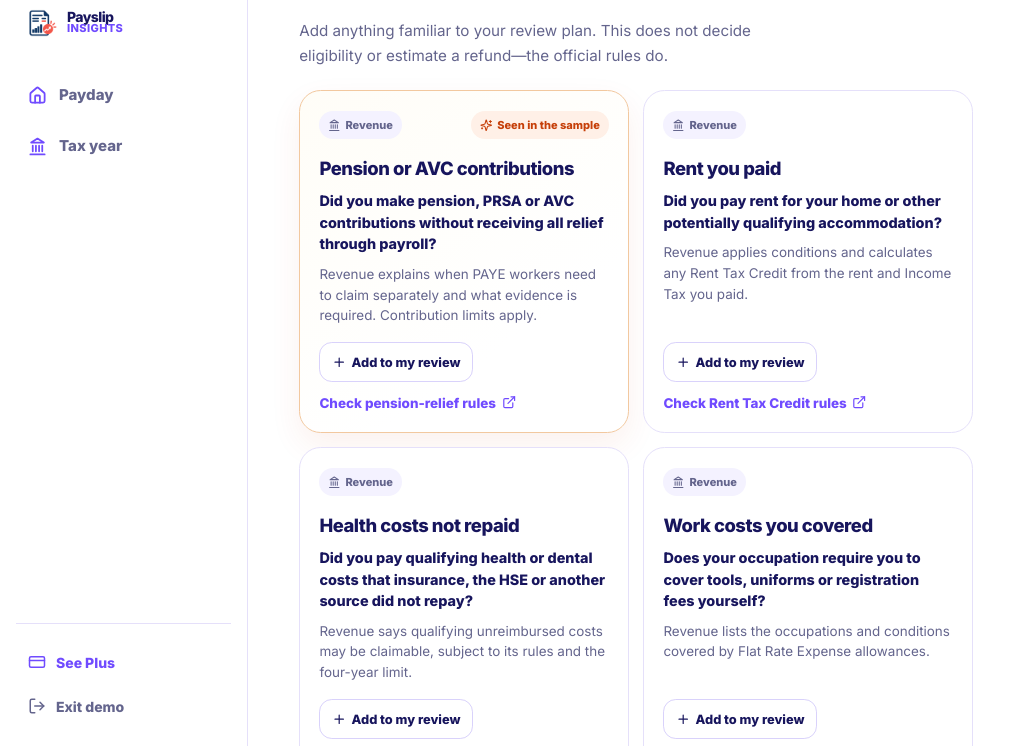
Test case: TaxHelper › turns selected topics into a private records plan that can be copied
(page scrolled)
Step 1. Click the button "Add to my review" below "Pension or AVC contributions" → [396, 362], box x1=319 y1=342 x2=473 y2=382
(page scrolled)
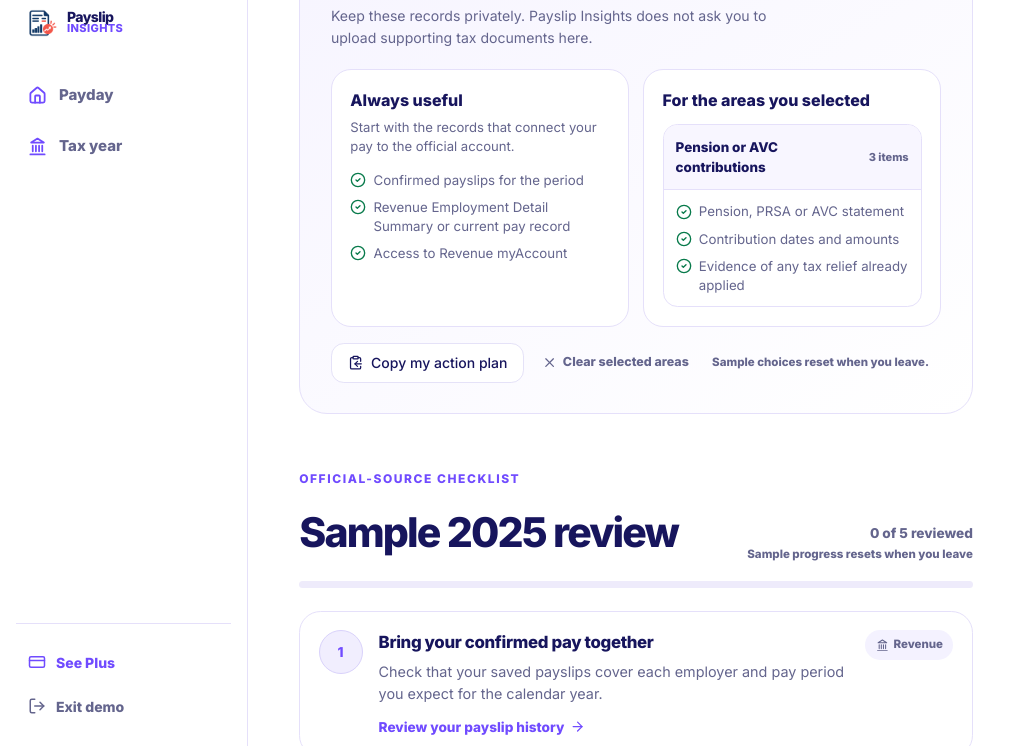
Expected: the text "does not ask you to upload supporting tax documents here" is shown, x1=331 y1=7 x2=766 y2=46
Result: the list item "Pension, PRSA or AVC statement" is shown at x1=676 y1=202 x2=909 y2=221
Step 2. Click the button "Copy my action plan" → [428, 363], box x1=331 y1=343 x2=524 y2=383
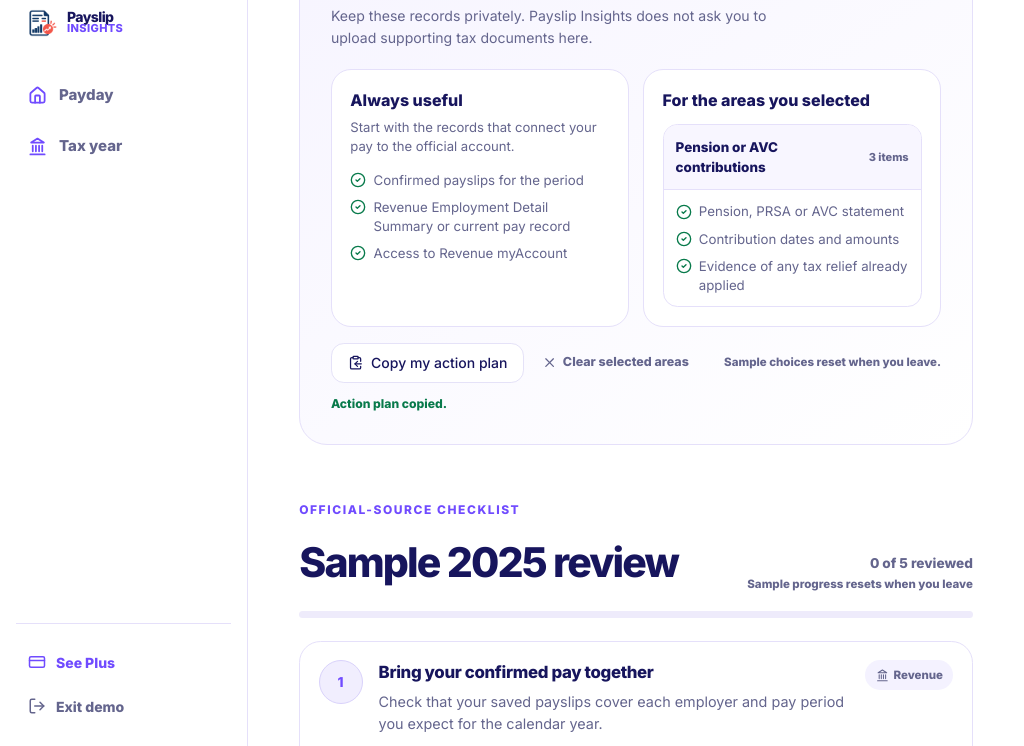
Result: the text "Action plan copied." is shown at x1=331 y1=395 x2=447 y2=413
